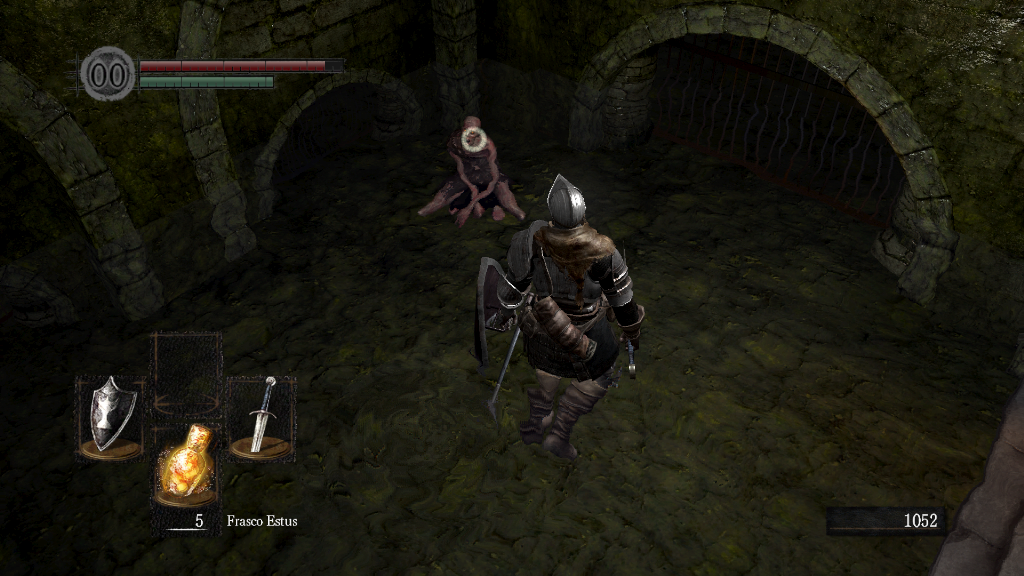health: (138, 58, 343, 71)
hollow: (411, 116, 530, 233)
humanity: (80, 45, 136, 102)
player: (472, 172, 647, 465)
souls: (825, 506, 945, 536)
stamina: (138, 74, 274, 88)
